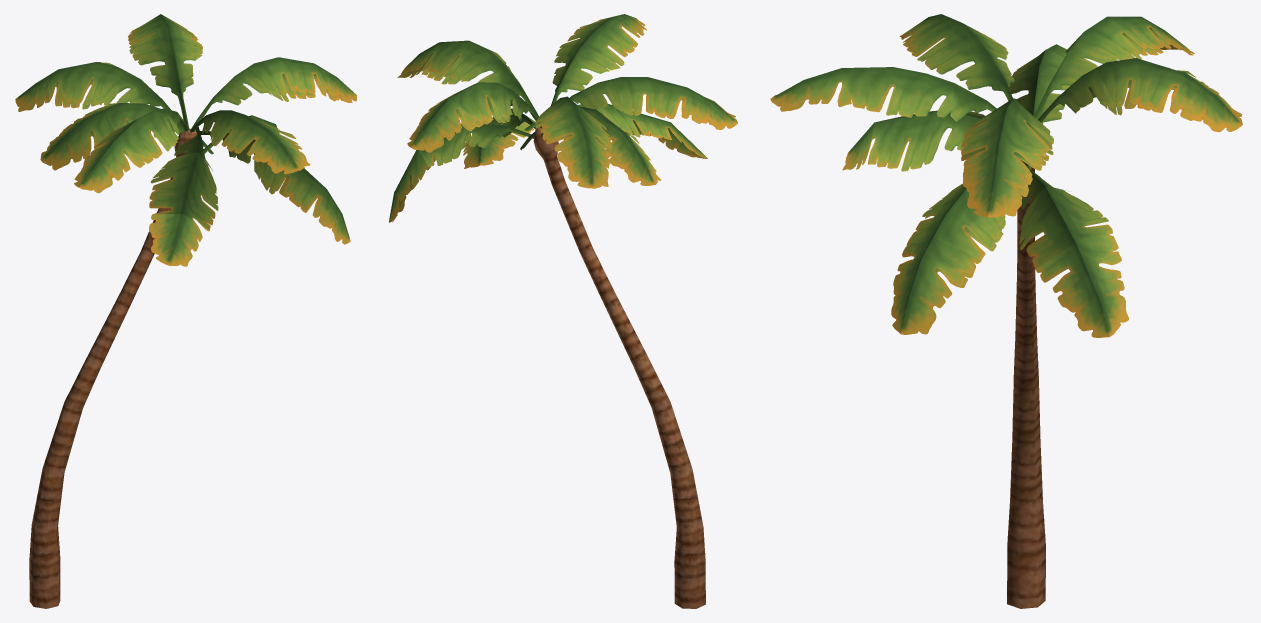
Rendered from Palmtree.fbx.
The picture shows the model from 3 angles, left to right: view 1: azimuth 30°, elevation 25°; view 2: azimuth 150°, elevation 25°; view 3: azimuth 270°, elevation 25°; orthographic projection. The views are drawn at different scales.
Parts seen in each view (by area): view 1: Palm_Low; view 2: Palm_Low; view 3: Palm_Low.
Boxes of the visible parts, x1=… form: Palm_Low: x1=15, y1=14, x2=356, y2=608; Palm_Low: x1=389, y1=14, x2=737, y2=608; Palm_Low: x1=770, y1=14, x2=1242, y2=608.
Bounding box in the file's own units: 307 × 477 × 320.
2 materials, 2 textured.
